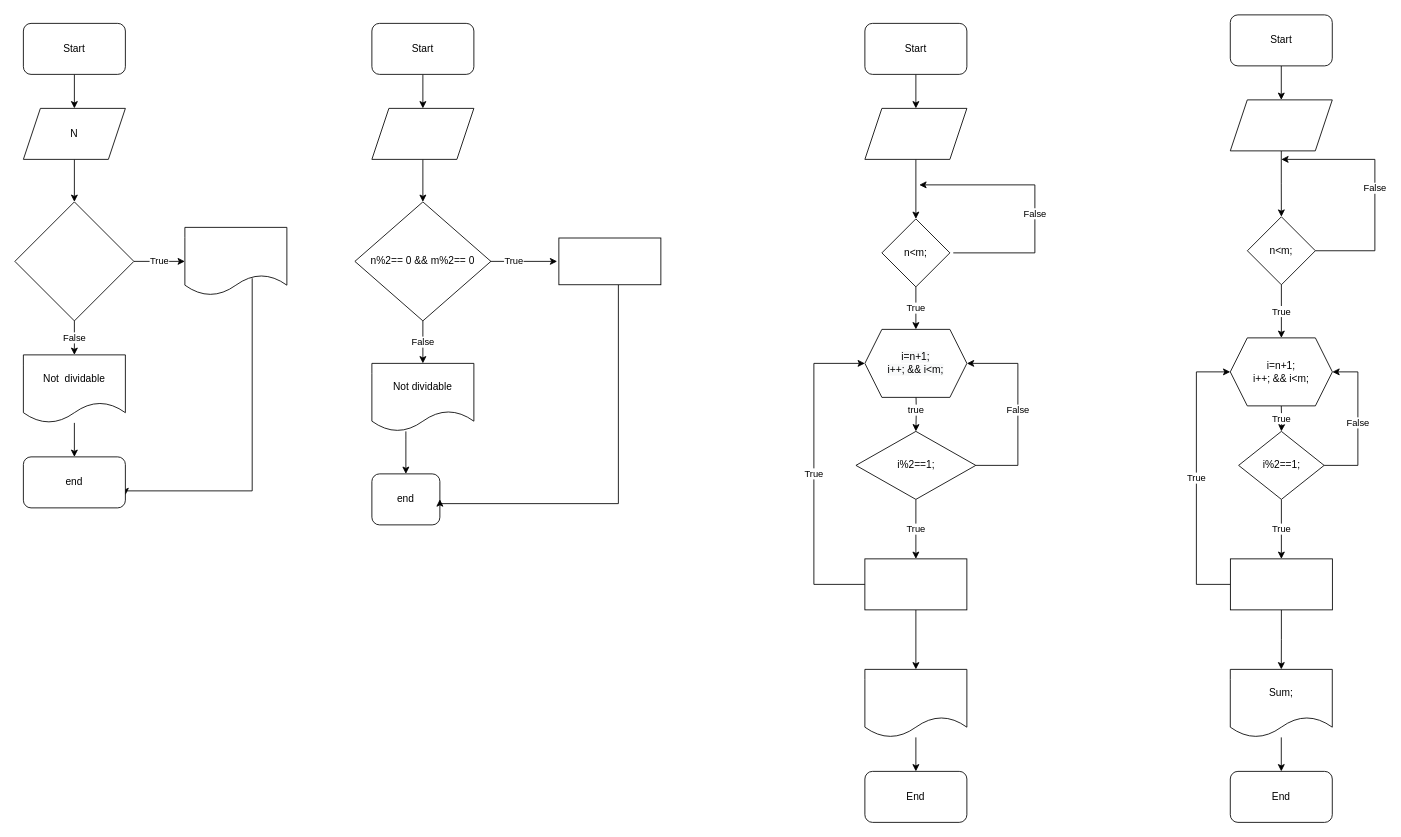
Some shapes in this 1401 by 837 pixel diagram are drawn without their labels. Each missing label, with the centre of its shape:
"count = n +m;" belongs at [609,261].
"count++;" belongs at [915,584].
"count;" belongs at [915,703].
"Dividable" belongs at [235,261].
"n%3== 0 && n%7== 0" belongs at [74,261].
"n,m count = 0" belongs at [422,133].
"n,m; count=0;" belongs at [915,133].
"n,m; Sum=0;" belongs at [1280,125].
"Sum+=i;" belongs at [1281,584].
